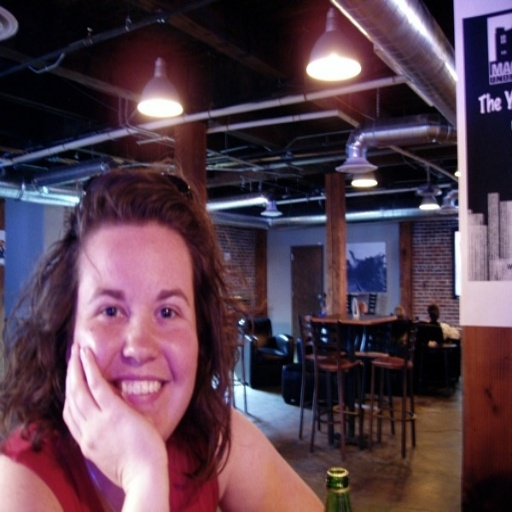hand: (56, 356, 159, 499)
